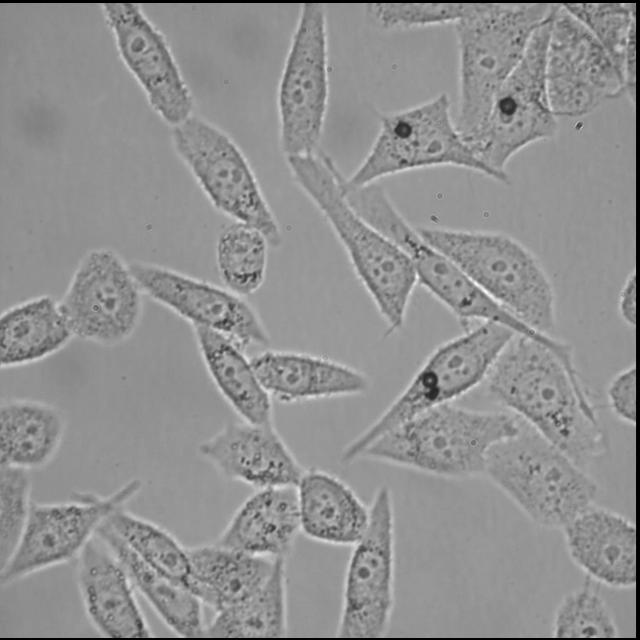microbeads: (494, 95, 516, 117), (392, 120, 412, 140), (424, 368, 441, 387)
